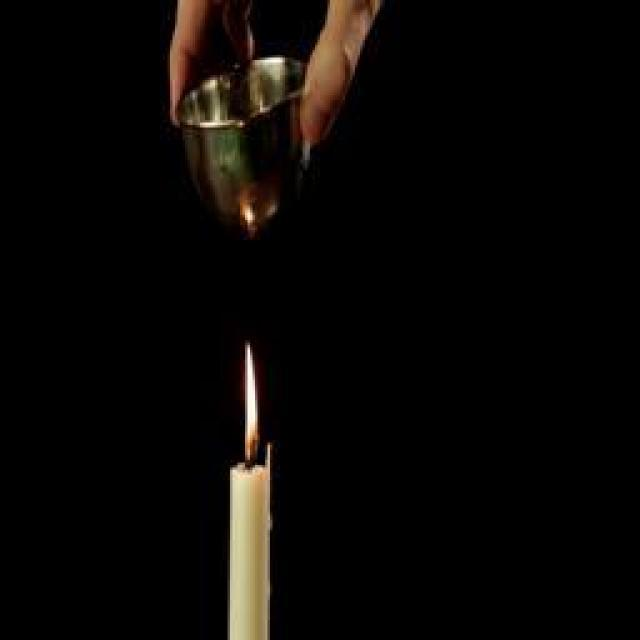Fire: (244, 346, 258, 462)
